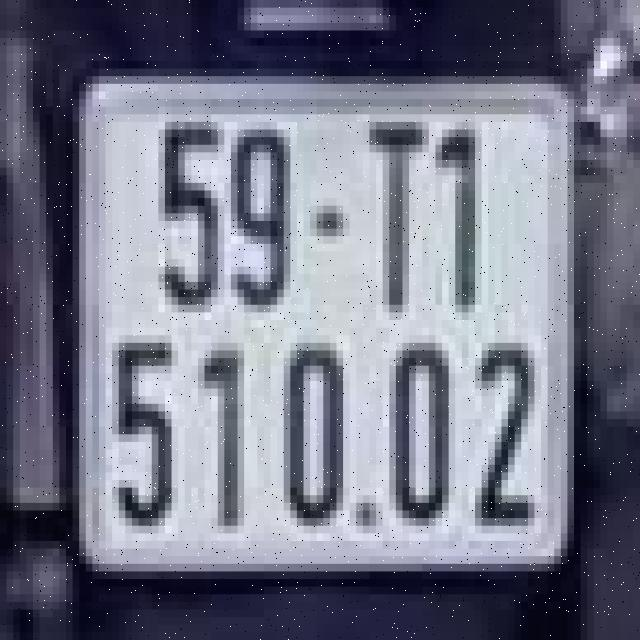0: (280, 328, 353, 541), (386, 332, 459, 530)
1: (195, 324, 254, 545), (436, 107, 488, 312)
2: (472, 320, 538, 541)
5: (109, 328, 181, 548), (152, 107, 224, 320)
9: (228, 110, 300, 324)
T: (360, 111, 432, 316)
